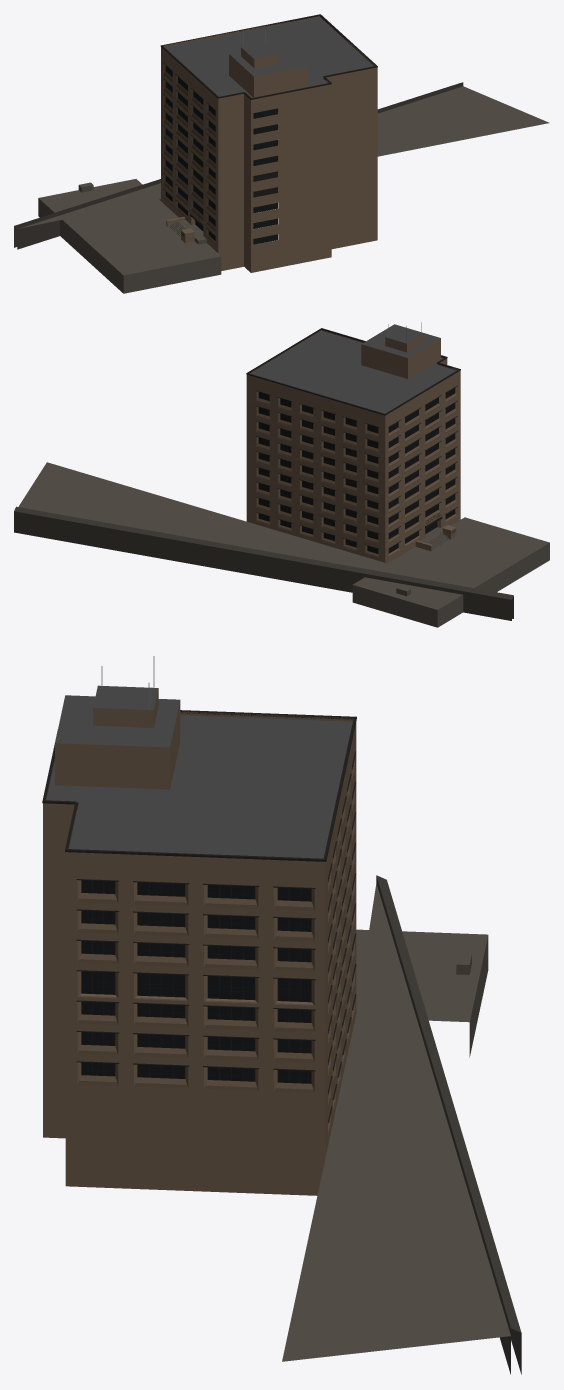
File: ernest-cockrell-jr-hall-look.glb
3 renders of one model, top to bottom at view 1: azimuth 30°, elevation 25°; view 2: azimuth 150°, elevation 25°; view 3: azimuth 270°, elevation 25°, orthographic. The views are drawn at different scales.
Parts seen in each view (by area): view 1: n_wall_brick_tan, n_concrete_terrace, n_roof_membrane, n_metal_dark_bronze, n_glass_window, n_concrete_weathered, n_wall_brick_stained; view 2: n_wall_brick_tan, n_concrete_terrace, n_concrete_weathered, n_roof_membrane, n_glass_window, n_metal_dark_bronze, n_wall_brick_stained, n_joint_shelf_mortar; view 3: n_wall_brick_tan, n_concrete_terrace, n_roof_membrane, n_glass_window, n_metal_dark_bronze, n_wall_brick_stained, n_concrete_weathered.
Part boxes in pixels (x1,y1,x2,y2): n_wall_brick_tan: (161, 16, 377, 272); n_concrete_terrace: (19, 86, 549, 293); n_roof_membrane: (165, 17, 373, 97); n_metal_dark_bronze: (160, 14, 377, 244); n_glass_window: (165, 66, 277, 244); n_concrete_weathered: (14, 82, 463, 249); n_wall_brick_stained: (164, 73, 278, 244); n_wall_brick_tan: (246, 330, 460, 563); n_concrete_terrace: (18, 462, 549, 627); n_concrete_weathered: (14, 506, 513, 620); n_roof_membrane: (250, 324, 456, 413); n_glass_window: (258, 388, 455, 553); n_metal_dark_bronze: (246, 328, 460, 553); n_wall_brick_stained: (256, 396, 456, 557); n_joint_shelf_mortar: (247, 396, 459, 545); n_wall_brick_tan: (43, 689, 356, 1195); n_concrete_terrace: (282, 883, 510, 1361); n_roof_membrane: (46, 685, 352, 858); n_glass_window: (81, 767, 352, 1123); n_metal_dark_bronze: (42, 710, 356, 1121); n_wall_brick_stained: (78, 772, 354, 1137); n_concrete_weathered: (376, 875, 521, 1374).
Size of the model in its own units: 139 by 57.7 by 58.89.
